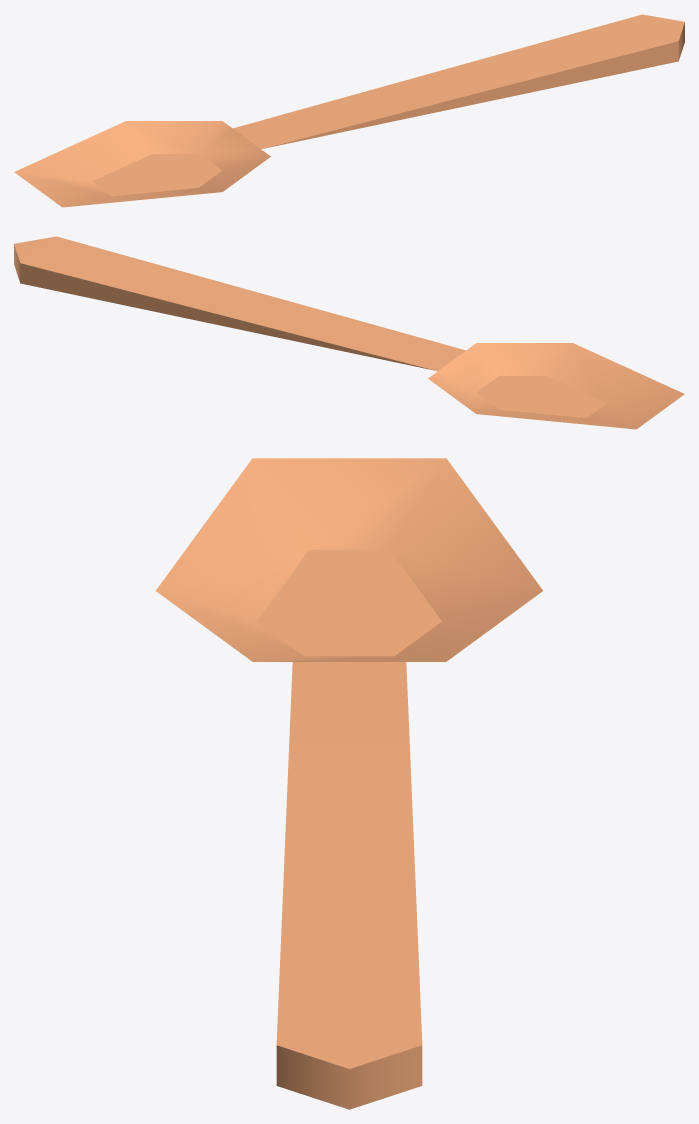
The model's file is Cooking Spoon.glb.
3 renders of one model, top to bottom at view 1: azimuth 30°, elevation 25°; view 2: azimuth 150°, elevation 25°; view 3: azimuth 270°, elevation 25°, orthographic. The views are drawn at different scales.
Parts seen in each view (by area): view 1: Cooking Spoon; view 2: Cooking Spoon; view 3: Cooking Spoon.
Boxes of the visible parts, <box> form: Cooking Spoon: <box>14,14,684,207</box>; Cooking Spoon: <box>14,236,684,429</box>; Cooking Spoon: <box>156,458,542,1109</box>.
Size of the model in its own units: 0.2985 by 0.0109 by 0.0775.
